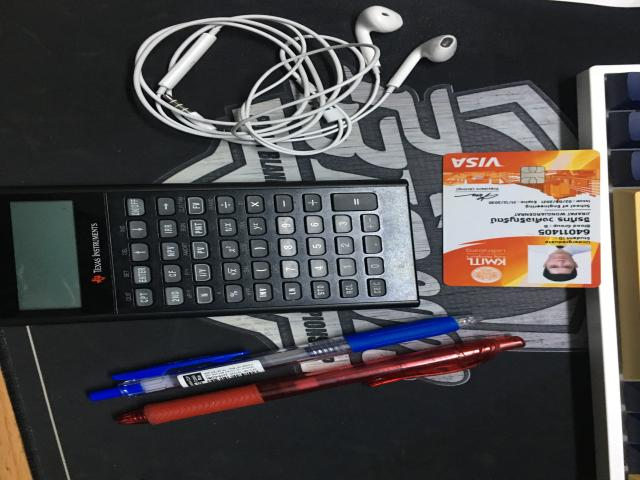Pen: (115, 337, 525, 425), (95, 314, 489, 400)
wire: (133, 6, 457, 156)
